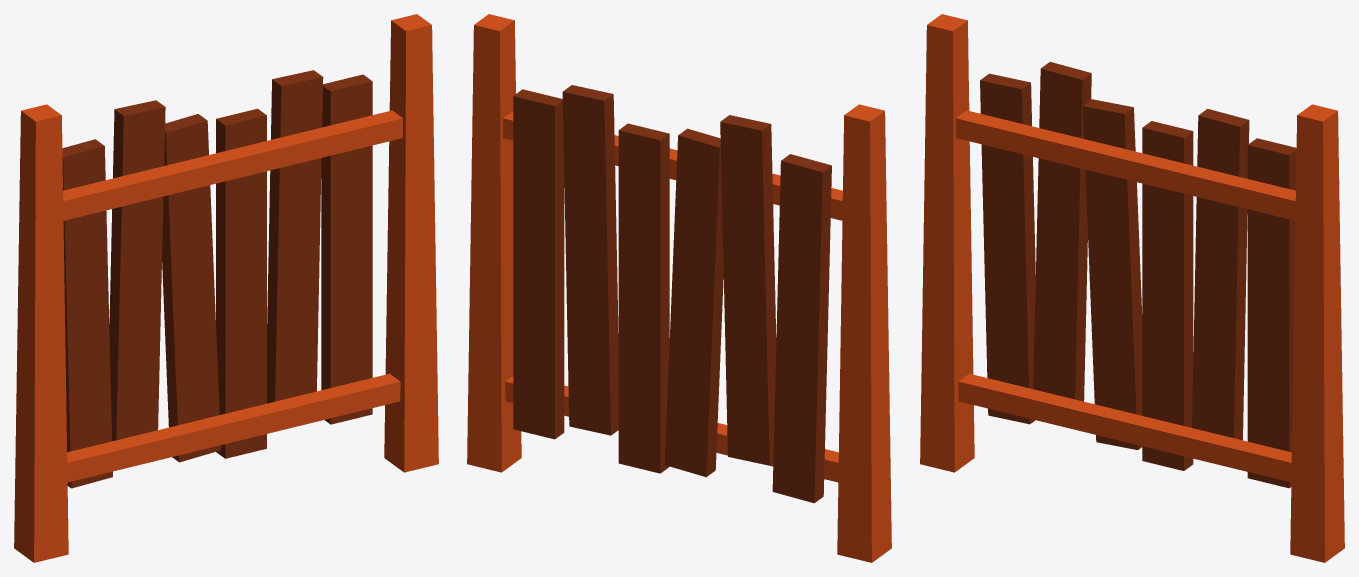
Rendered from fenceFortified.obj.
The picture shows the model from 3 angles, left to right: view 1: azimuth 30°, elevation 25°; view 2: azimuth 150°, elevation 25°; view 3: azimuth 330°, elevation 25°; orthographic projection.
Parts seen in each view (by area): view 1: fenceFortified; view 2: fenceFortified; view 3: fenceFortified.
Boxes of the visible parts, x1=… form: fenceFortified: x1=14, y1=14, x2=438, y2=562; fenceFortified: x1=467, y1=14, x2=891, y2=562; fenceFortified: x1=920, y1=14, x2=1344, y2=562.
Size of the model in its own units: 0.5 by 0.5175 by 0.053.
